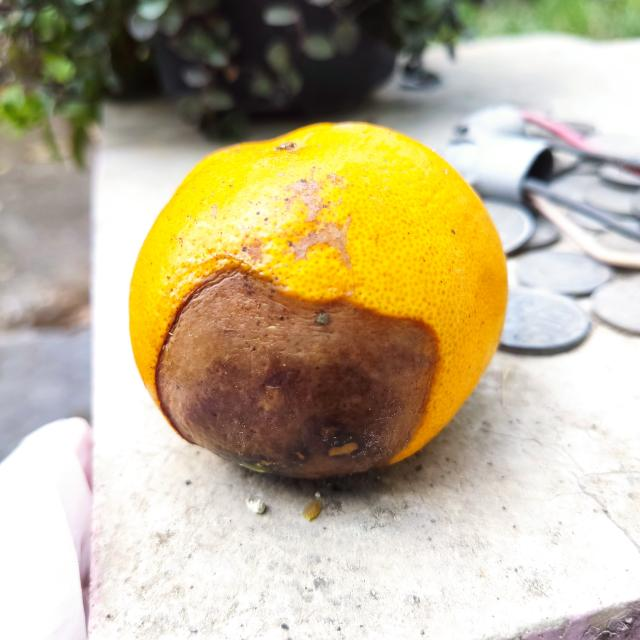orange: (123, 120, 511, 487)
